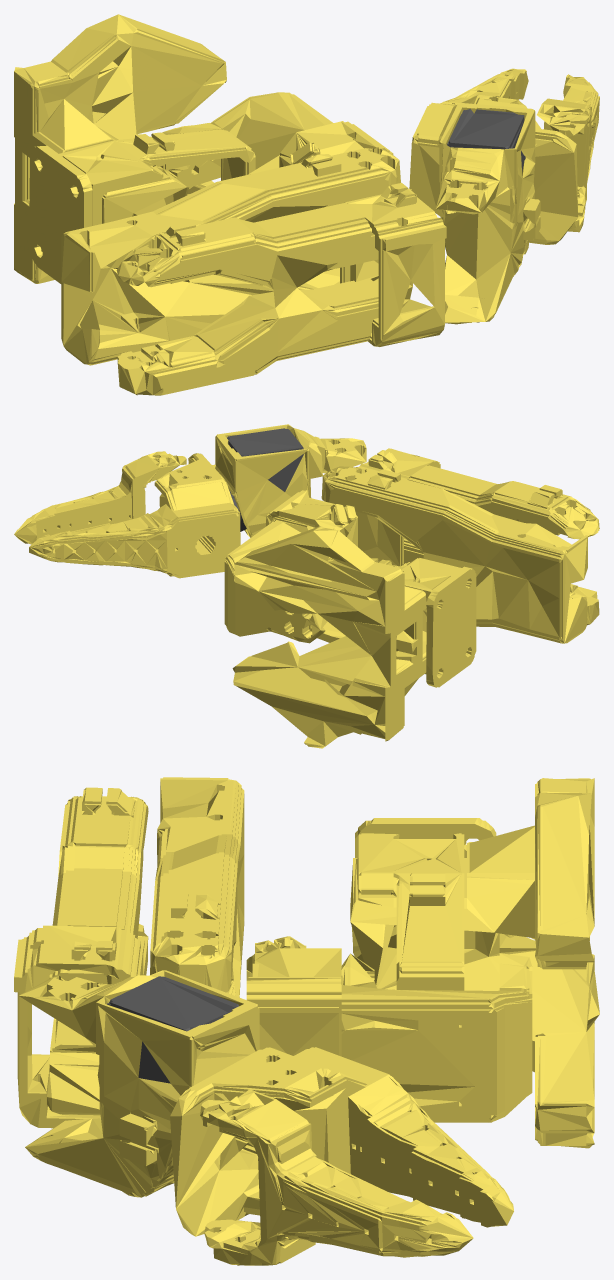
The picture shows the model from 3 angles, top to bottom: view 1: azimuth 30°, elevation 25°; view 2: azimuth 150°, elevation 25°; view 3: azimuth 270°, elevation 25°; orthographic projection. The views are drawn at different scales.
Visible parts, largest first — view 1: so101_body, so101_servos; view 2: so101_body, so101_servos; view 3: so101_body, so101_servos.
Boxes of the visible parts, x1,y1,x2,y2 form: so101_body: (14, 14, 599, 395); so101_servos: (447, 109, 525, 171); so101_body: (14, 424, 599, 748); so101_servos: (227, 428, 303, 531); so101_body: (14, 777, 599, 1265); so101_servos: (107, 976, 238, 1083).
Size of the model in its own units: 0.2756 by 0.1144 by 0.1728.
